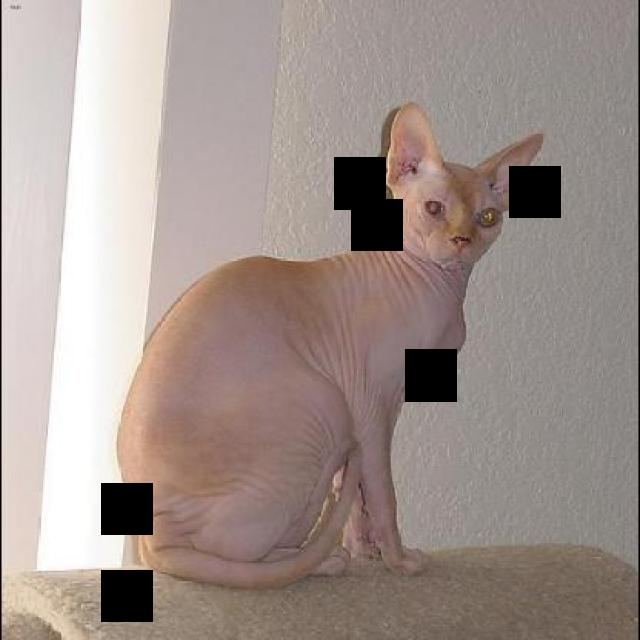unauthorized: (116, 100, 544, 591)
